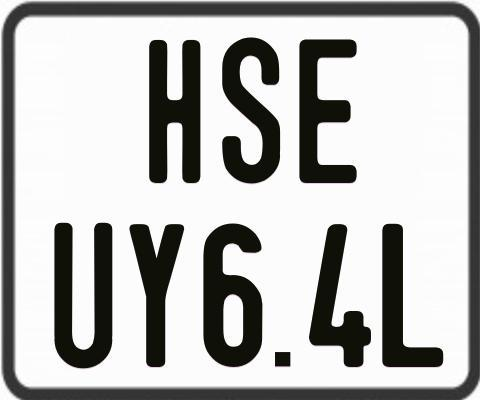4: (309, 223, 371, 372)
6: (201, 224, 263, 368)
E: (299, 37, 360, 182)
H: (148, 37, 202, 182)
L: (381, 224, 448, 372)
S: (219, 37, 279, 187)
U: (53, 221, 115, 369)
Y: (129, 224, 188, 370)
